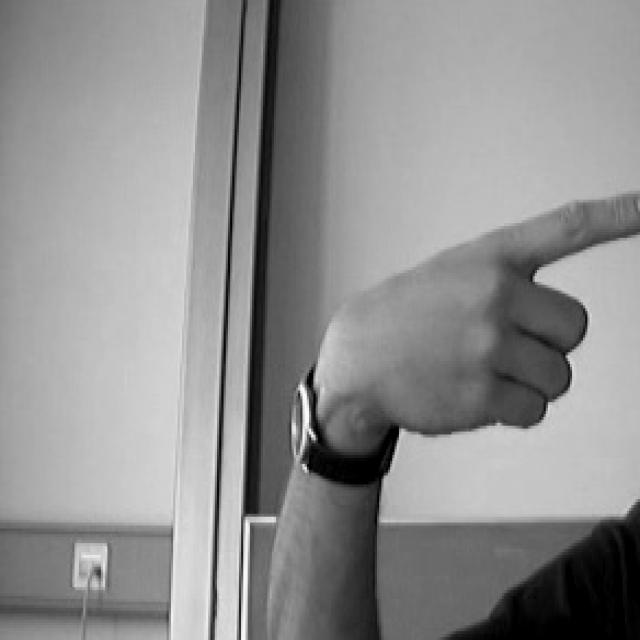G: (335, 179, 640, 449)
